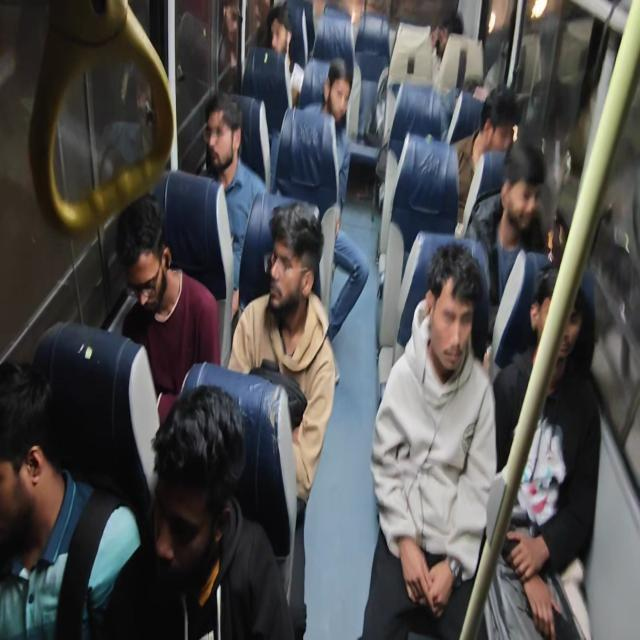person: (131, 335, 267, 640), (0, 381, 130, 614), (248, 186, 325, 354), (534, 273, 607, 447), (429, 256, 517, 392), (176, 98, 253, 207), (120, 218, 178, 328), (472, 61, 516, 160), (312, 66, 357, 131), (259, 8, 300, 79), (496, 162, 538, 230), (432, 15, 480, 69), (462, 65, 491, 117)
